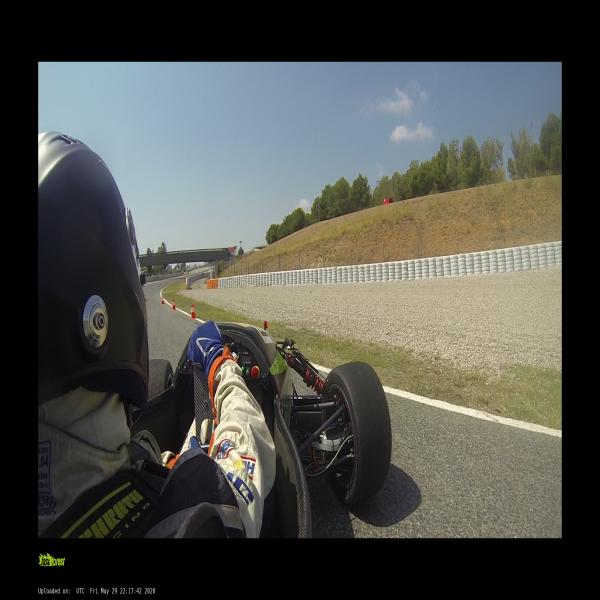orange_cone: (191, 304, 196, 318), (264, 321, 269, 335), (172, 299, 176, 310), (162, 296, 164, 305), (144, 295, 146, 301)
